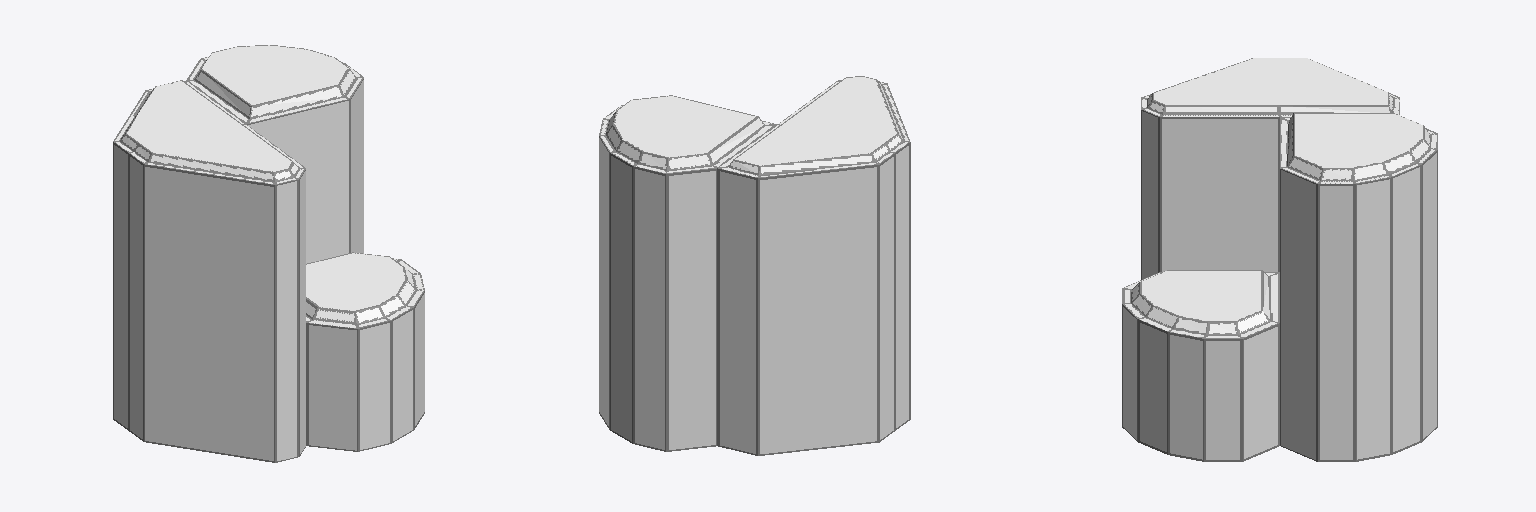
3 views of the same model, side by side, from view 1: azimuth 30°, elevation 25°; view 2: azimuth 150°, elevation 25°; view 3: azimuth 270°, elevation 25° (orthographic).
Visible parts, largest first — view 1: cube3_copy12; view 2: cube3_copy12; view 3: cube3_copy12.
Part boxes in pixels (x1,y1,x2,y2): cube3_copy12: (113, 45, 424, 462); cube3_copy12: (599, 76, 910, 455); cube3_copy12: (1122, 58, 1437, 461).
Bounding box in the file's own units: 1.43 × 1.55 × 1.54.
1 materials, 1 textured.